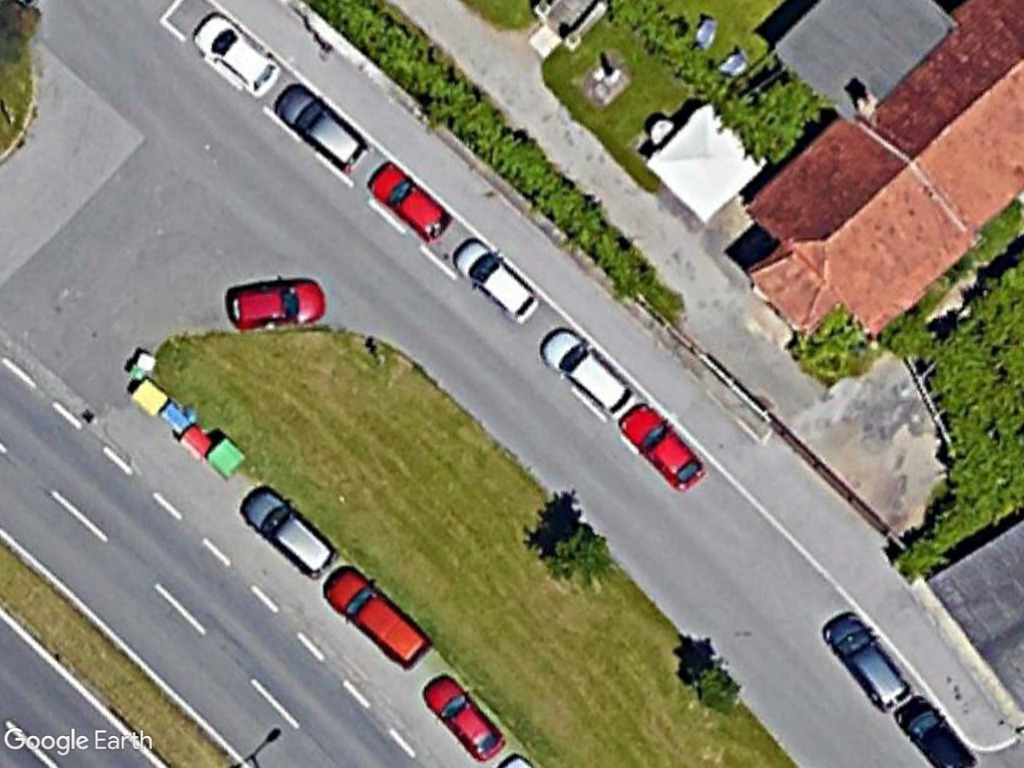car: (536, 321, 641, 421), (236, 481, 340, 581), (820, 603, 912, 715), (443, 232, 547, 328), (268, 78, 373, 173), (616, 394, 711, 499), (419, 667, 512, 763), (188, 10, 284, 102), (360, 159, 455, 246), (888, 680, 979, 768), (223, 273, 333, 337)
van: (316, 560, 434, 674)
